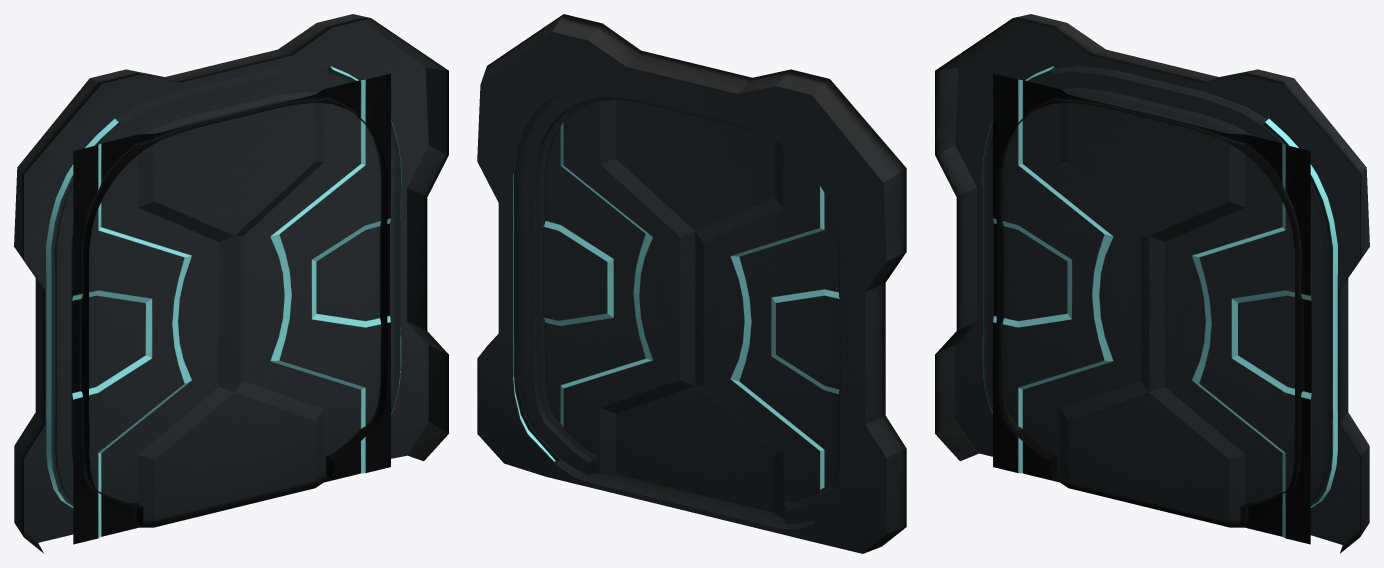
File: SciFi_Conf_Room_Door.FBX
3 views of the same model, side by side, from view 1: azimuth 30°, elevation 25°; view 2: azimuth 150°, elevation 25°; view 3: azimuth 330°, elevation 25° (orthographic).
Parts seen in each view (by area): view 1: SciFi_Conf_Room_Door; view 2: SciFi_Conf_Room_Door; view 3: SciFi_Conf_Room_Door.
Part boxes in pixels (<box>): SciFi_Conf_Room_Door: <box>14,14,448,553</box>; SciFi_Conf_Room_Door: <box>477,14,906,553</box>; SciFi_Conf_Room_Door: <box>935,14,1369,553</box>.
Bounding box in the file's own units: 2748 × 2831 × 188.
1 material, 1 textured.
